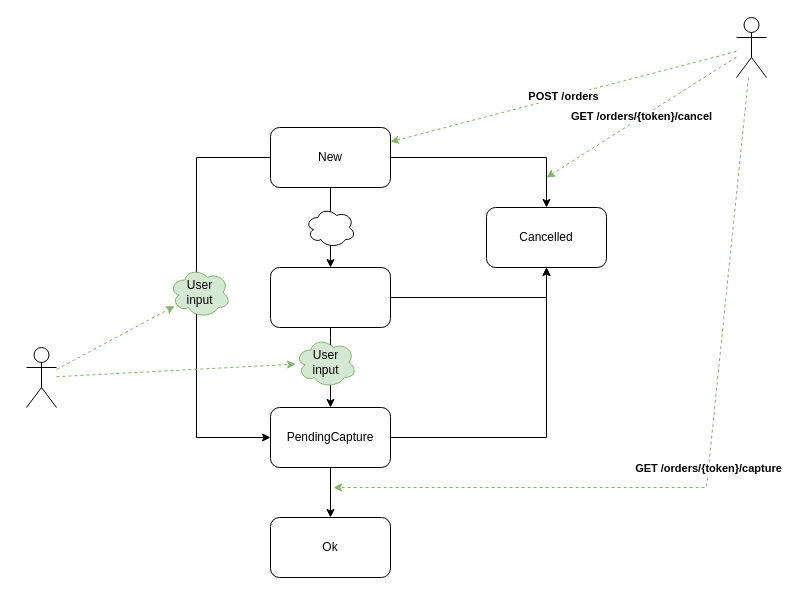
Image size: 799x595. Some labels were removed from this diagram. Each missing label, with the centre of its shape:
"API Role" belongs at pixel 751 47.
"End-user" belongs at pixel 41 377.
"Pending CustomerNumber" belongs at pixel 330 297.
